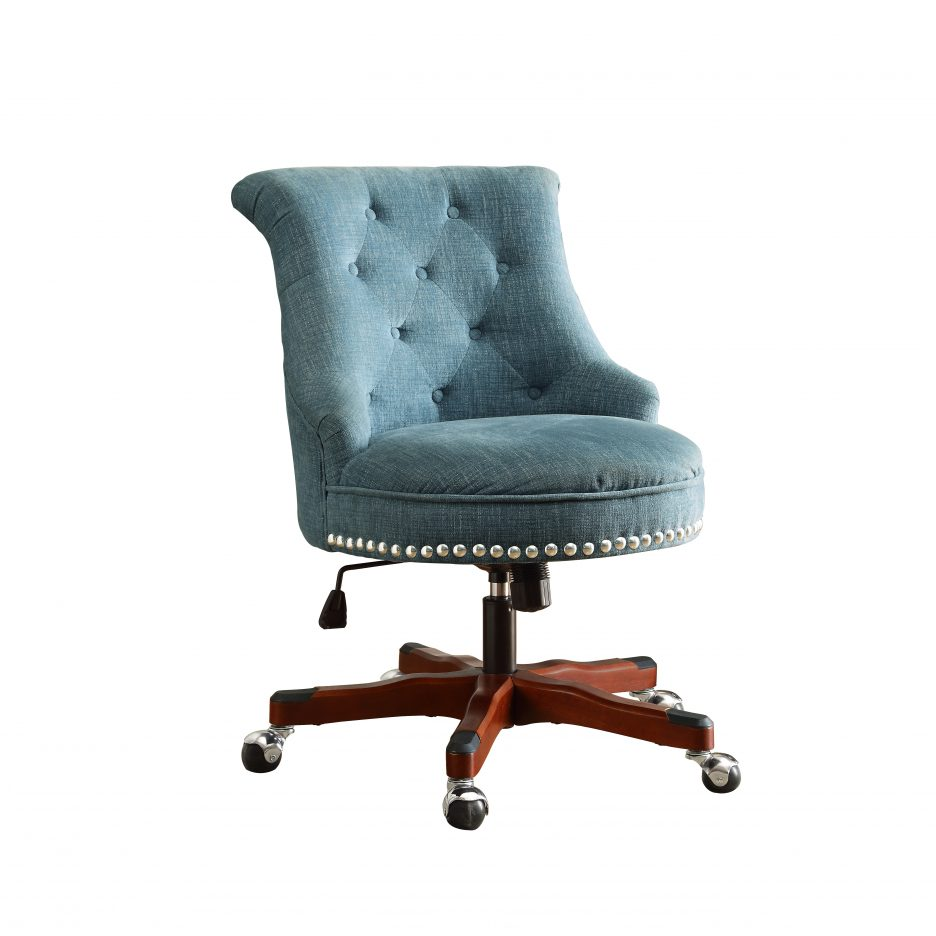chairs: (218, 157, 752, 834)
